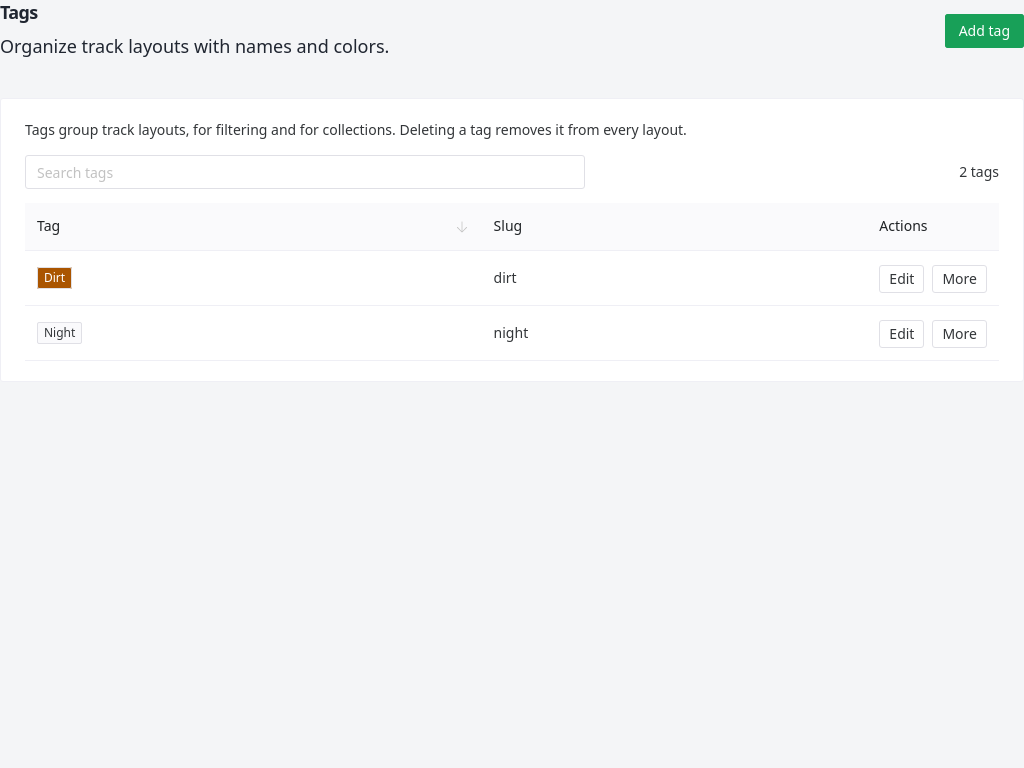
it: TagsView › edits a tag
Click the 2nd button "Edit".
click(902, 334)  # box left=879, top=320, right=924, bottom=348
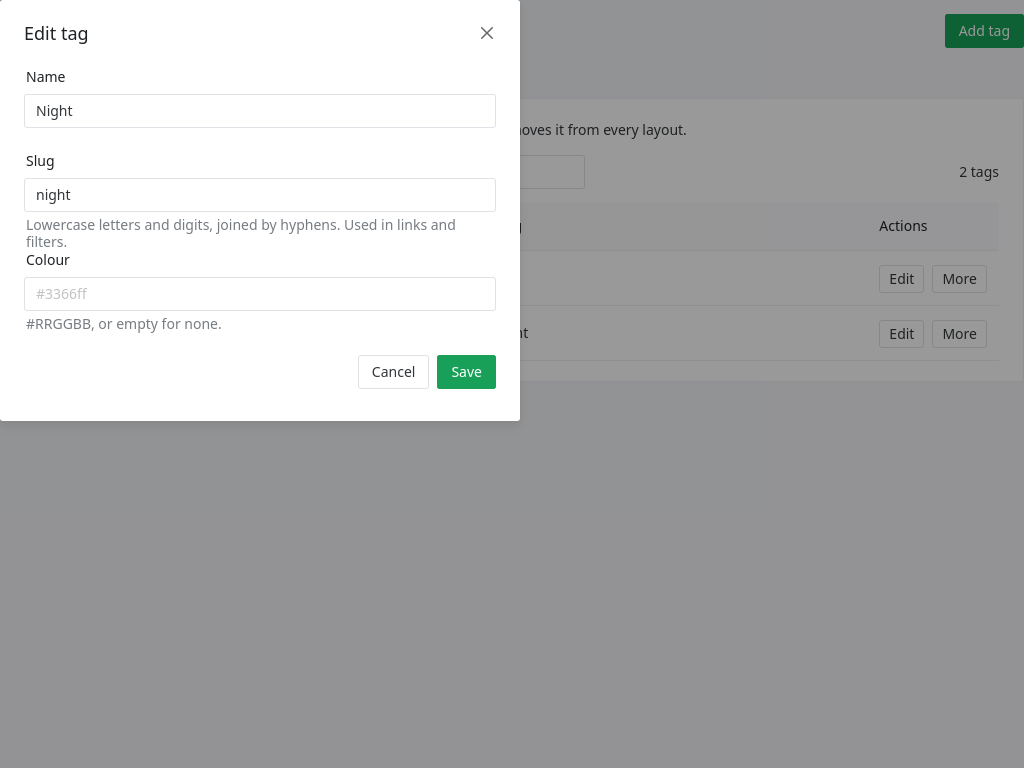
Replace the text in the field named "Name" with "Night race" at (260, 111), box left=36, top=94, right=484, bottom=128
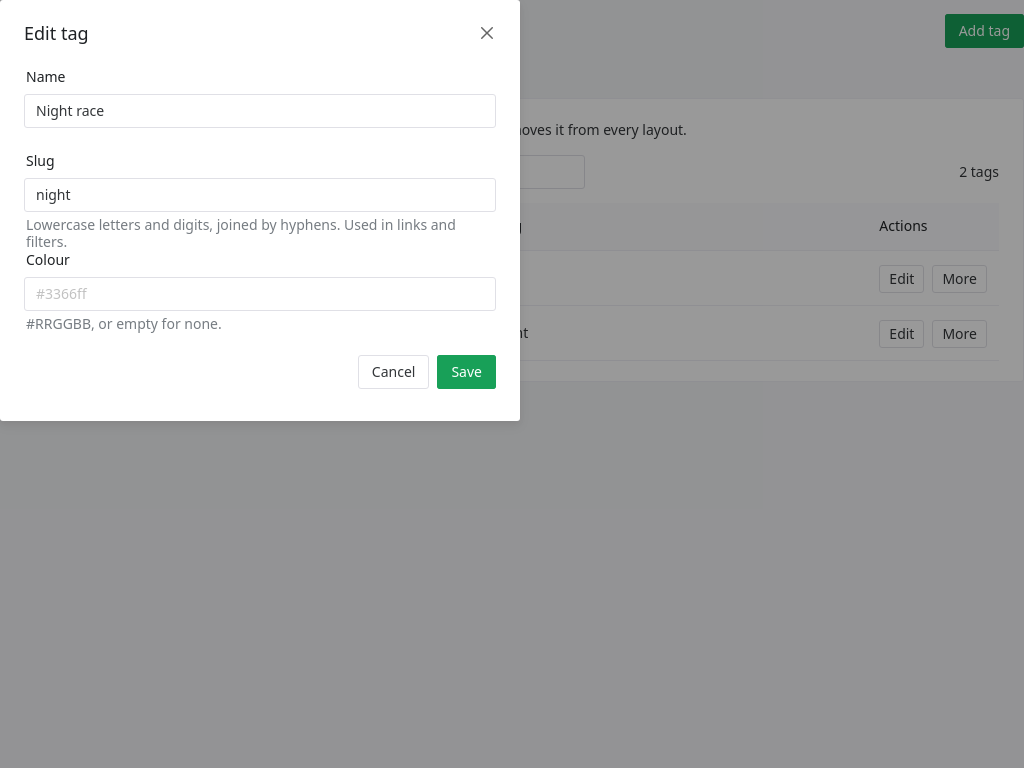
Click the button "Save".
click(467, 372)  # box left=437, top=355, right=496, bottom=389
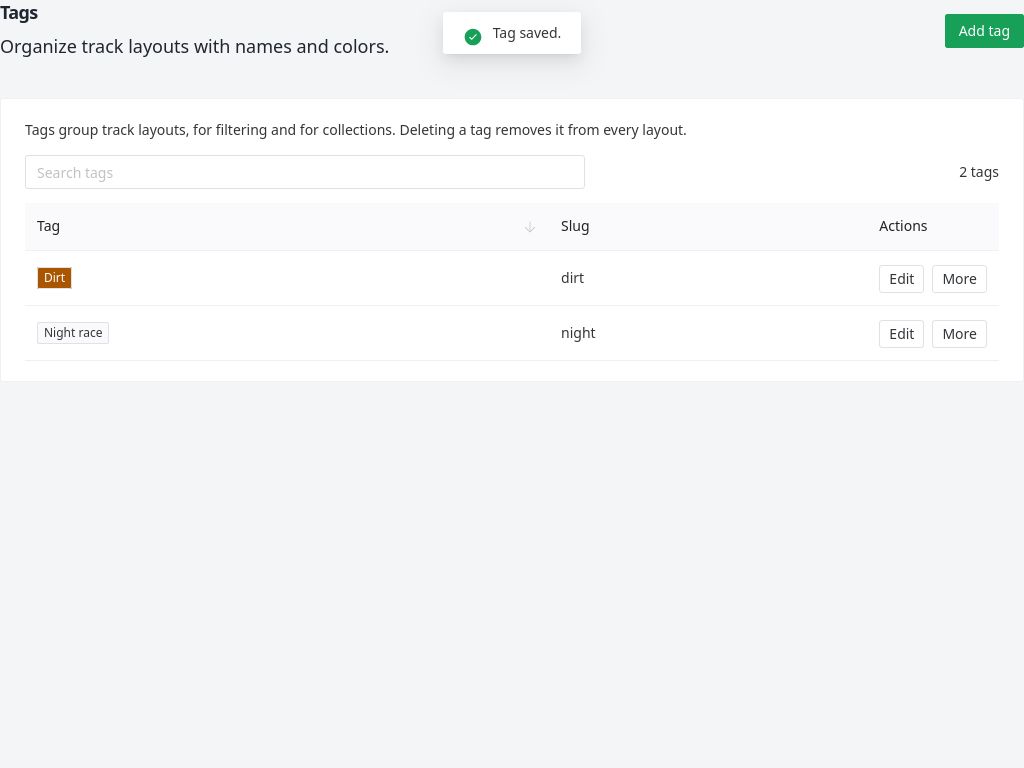
expect the text "Night race" is shown: met, box left=44, top=327, right=102, bottom=339
